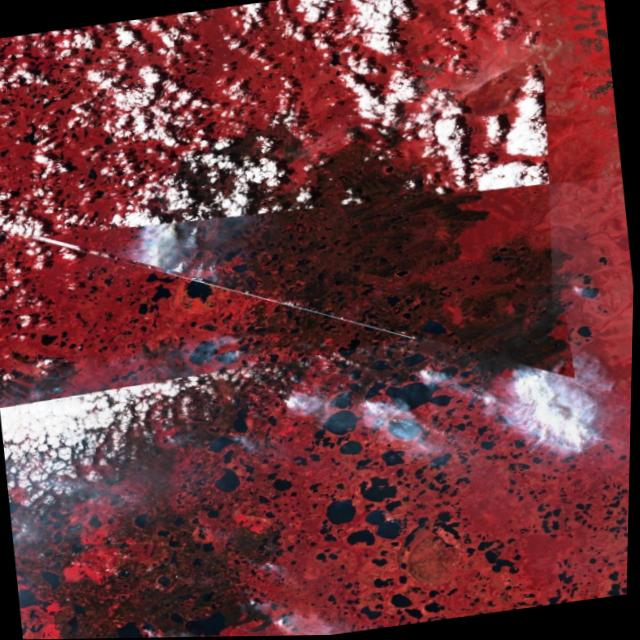fire: (256, 327, 600, 453), (111, 191, 238, 301), (241, 602, 305, 637)
